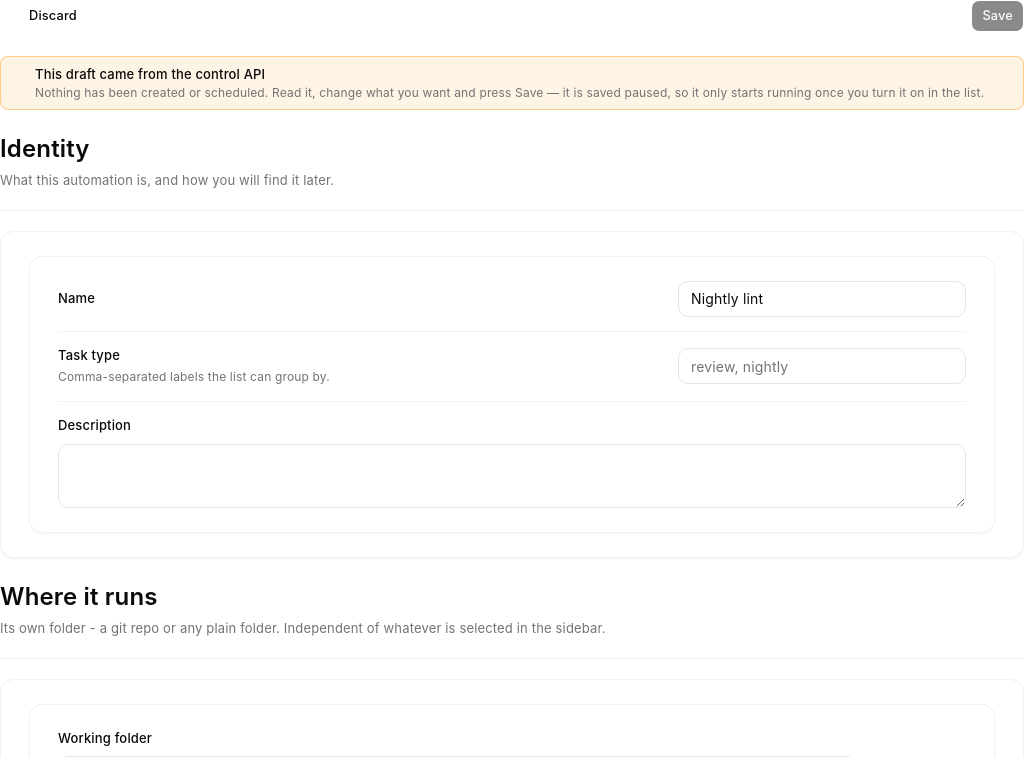
AutomationEditor › cannot offer to save a draft that is not saveable, and says why
Click the button "Discard" at (44, 16), box [0,0,88,32]
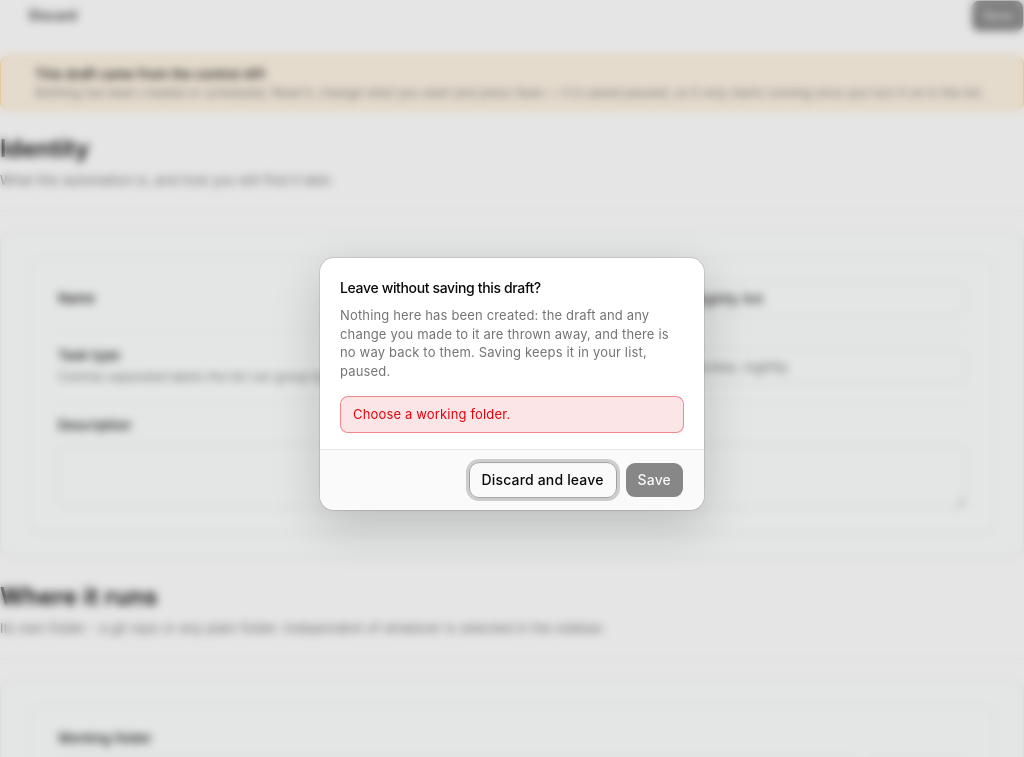
Result: the button "Save" is disabled at [625,462,684,498]
Result: the dialog shows "folder" at [353,406,510,422]
